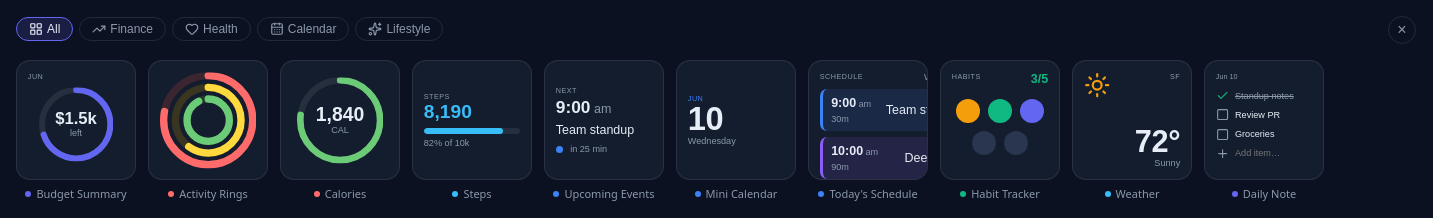
Test case: WidgetCarousel › filter chip "Health" shows only Health widget tiles
Click the button with aria-label "Filter: Health" at (211, 29), box x1=172 y1=17 x2=251 y2=41
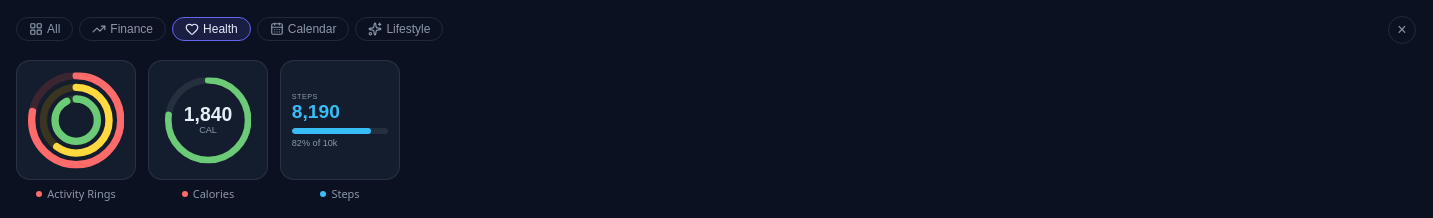
Expected: the button named "Activity Rings" is shown, x1=16 y1=60 x2=136 y2=180
Expected: the text "Budget Summary" is gone
